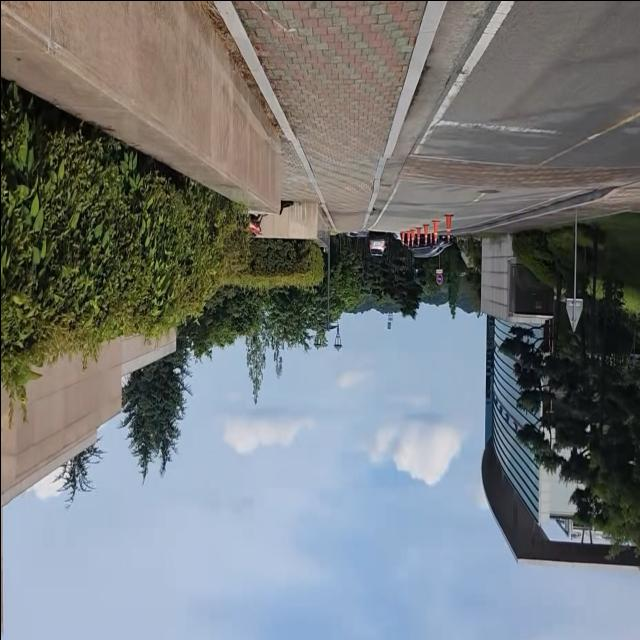road: (370, 0, 640, 233)
sidewalk: (203, 0, 450, 231), (459, 180, 640, 234)
